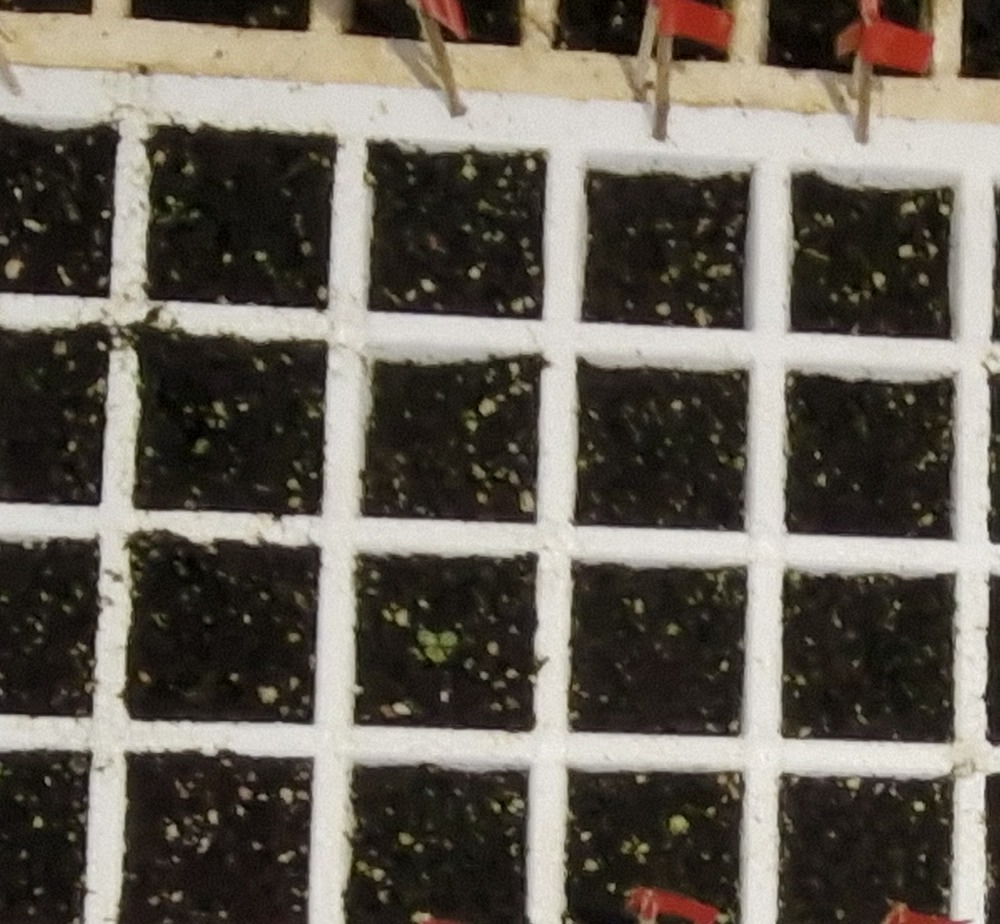Folha: (427, 645, 447, 662), (416, 628, 436, 644), (441, 632, 457, 646)
Germinacao: (416, 630, 458, 662)
